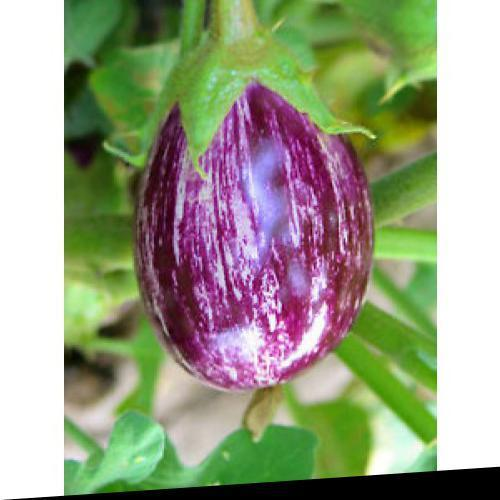eggplant: (129, 0, 369, 425)
